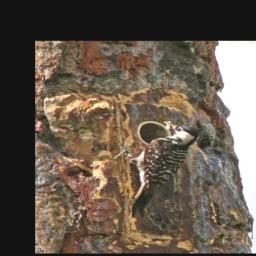Woodpecker: (114, 121, 200, 217)
